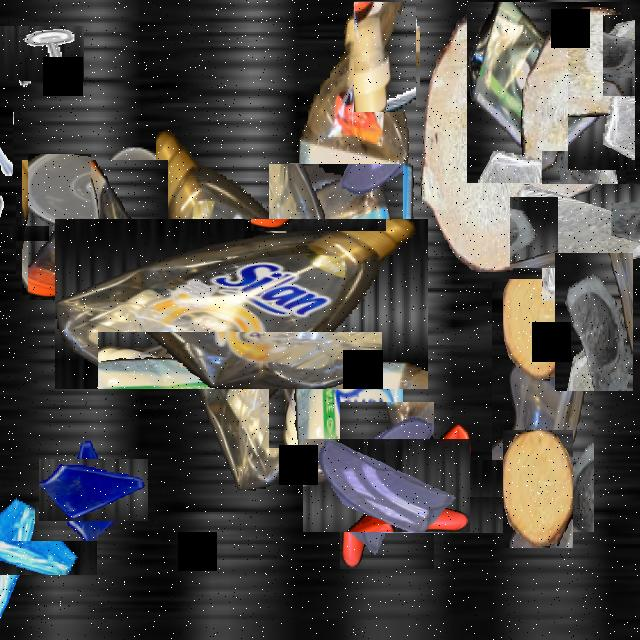glass: (322, 420, 452, 551), (525, 167, 640, 284), (555, 253, 633, 391), (50, 448, 136, 534), (0, 509, 65, 606)
metal: (342, 14, 428, 100), (0, 14, 73, 92), (0, 208, 32, 257), (0, 105, 13, 183)
plastic: (105, 168, 377, 440), (276, 2, 416, 446), (269, 164, 403, 448), (461, 8, 629, 177), (492, 279, 594, 532), (25, 157, 165, 298), (91, 148, 179, 304), (380, 442, 488, 550)
wood: (420, 7, 568, 270), (503, 430, 573, 548)
